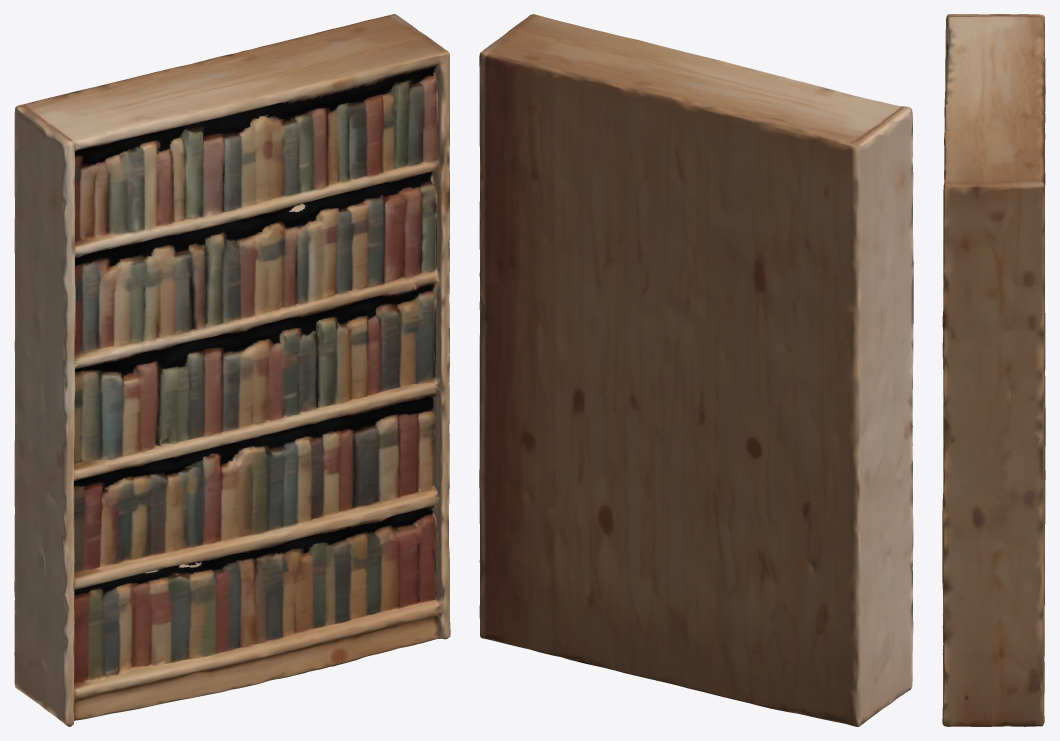
3 views of the same model, side by side, from view 1: azimuth 30°, elevation 25°; view 2: azimuth 150°, elevation 25°; view 3: azimuth 270°, elevation 25° (orthographic). The views are drawn at different scales.
Visible parts, largest first — view 1: Mesh_0; view 2: Mesh_0; view 3: Mesh_0.
Part boxes in pixels (left/top/right/bottom): Mesh_0: left=14, top=14, right=450, bottom=726; Mesh_0: left=479, top=14, right=913, bottom=726; Mesh_0: left=942, top=14, right=1045, bottom=726.
Bounding box in the file's own units: 1.26 × 1.84 × 0.3164.
Materials: 1 (1 with a texture image).
